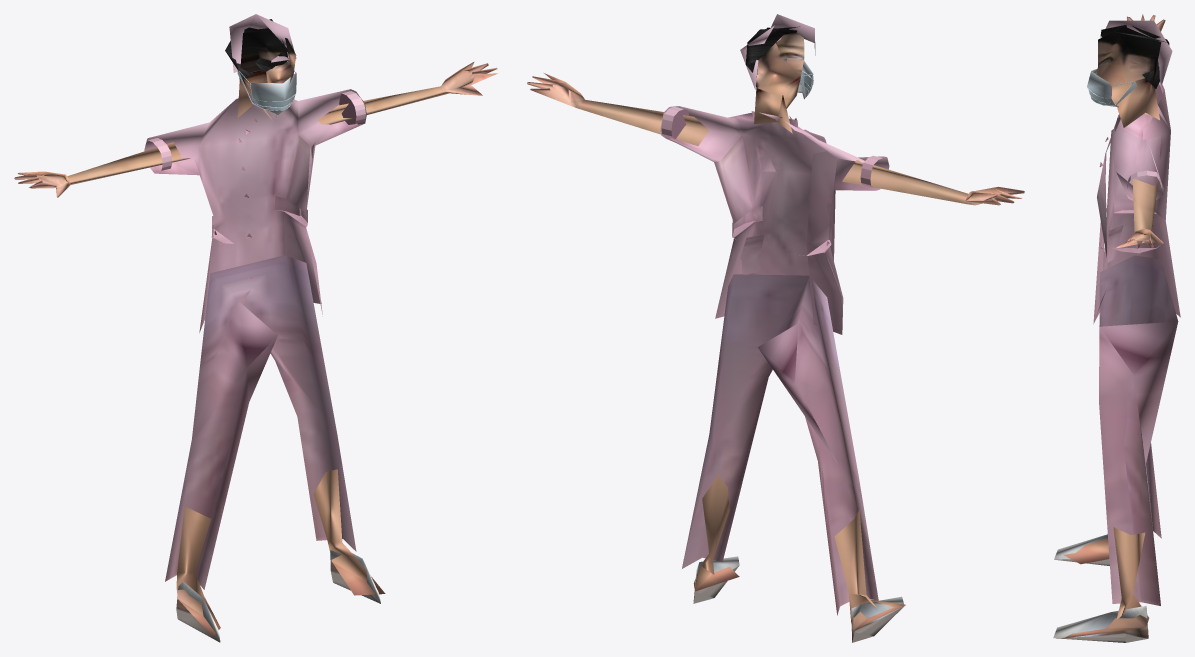
File: Nurse.glb
3 renders of one model, left to right at view 1: azimuth 30°, elevation 25°; view 2: azimuth 150°, elevation 25°; view 3: azimuth 270°, elevation 25°, orthographic. The views are drawn at different scales.
Visible parts, largest first — view 1: 3d66-PolyMeshObject-22812258-001; view 2: 3d66-PolyMeshObject-22812258-001; view 3: 3d66-PolyMeshObject-22812258-001.
Part boxes in pixels (x1,y1,x2,y2): 3d66-PolyMeshObject-22812258-001: (14,14,497,642); 3d66-PolyMeshObject-22812258-001: (527,14,1024,642); 3d66-PolyMeshObject-22812258-001: (1053,14,1180,642).
Size of the model in its own units: 0.9127 by 1.06 by 0.2104.
1 material, 1 textured.
